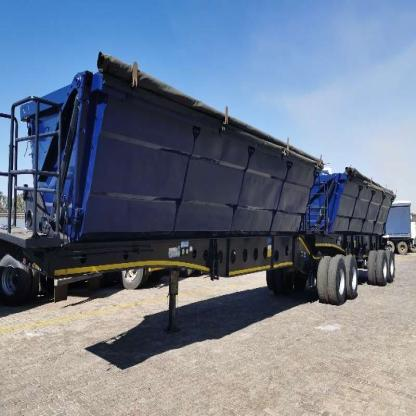dump_truck: (17, 46, 410, 336)
